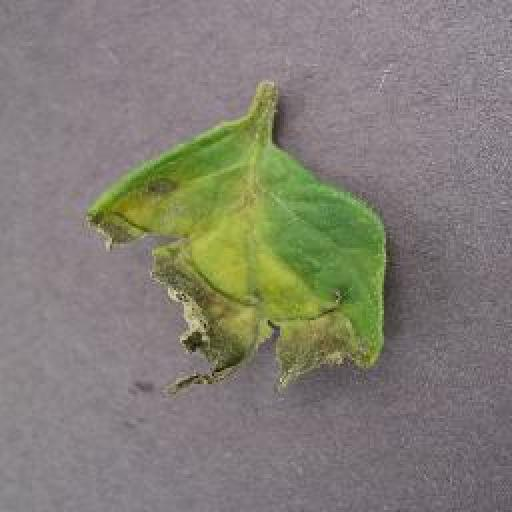Late Blight: (85, 110, 388, 398)
